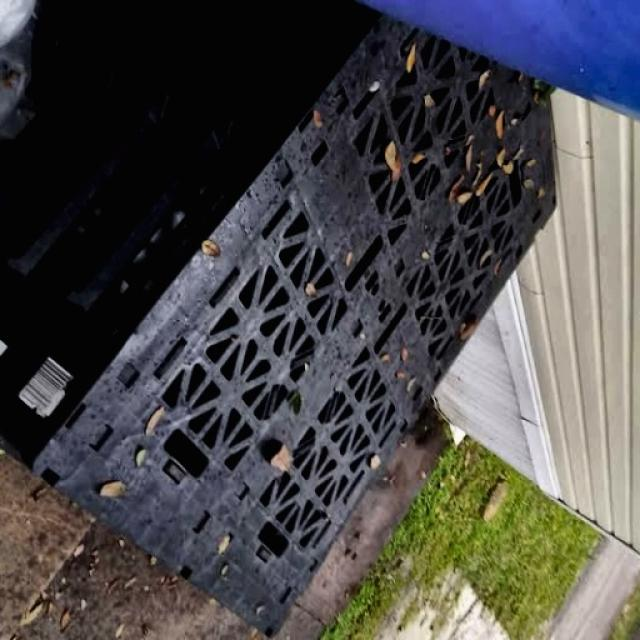igps: (20, 11, 561, 639)
